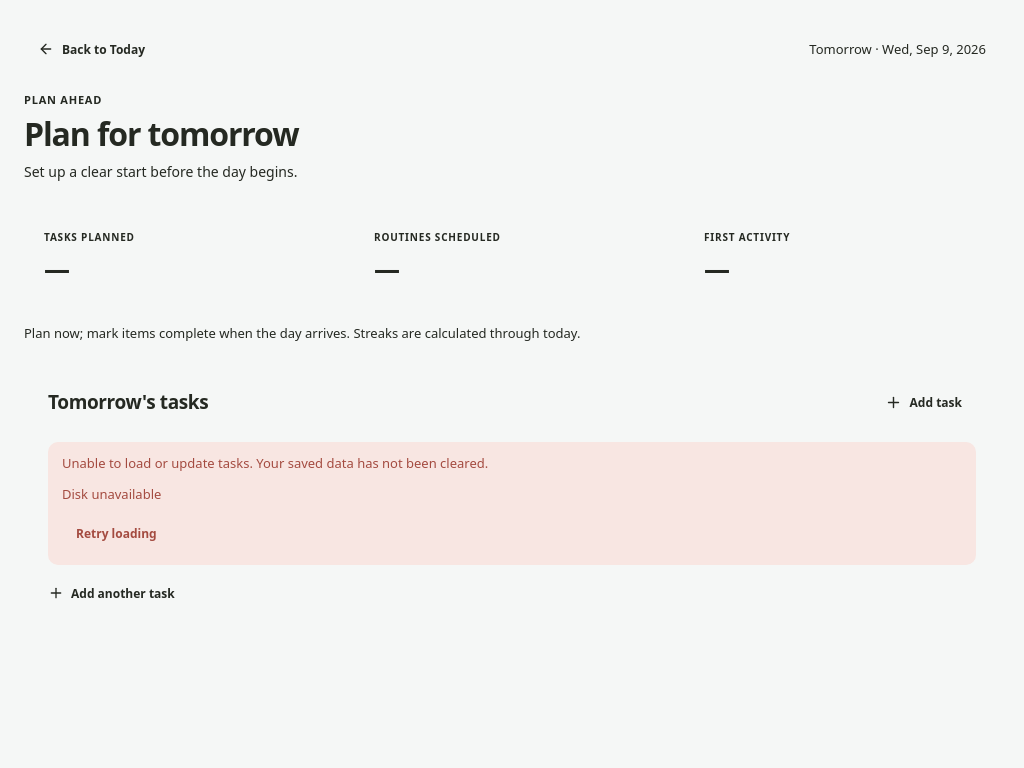
Test: shows a retryable load failure instead of an empty plan
This screenshot has width=1024, height=768.
Expected: the text "No tasks planned for tomorrow yet." is not shown
Click the button "Retry loading".
click(116, 534)  # box [62,515,171,553]
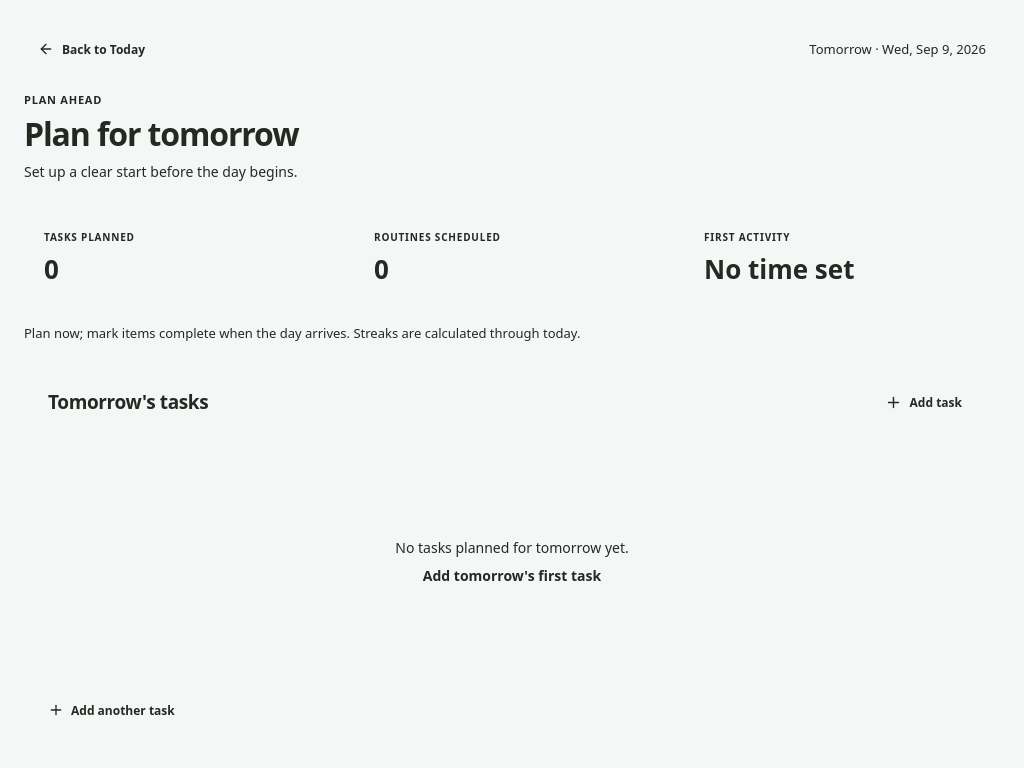
Result: the text "No tasks planned for tomorrow yet." is shown at [395,538,629,557]
